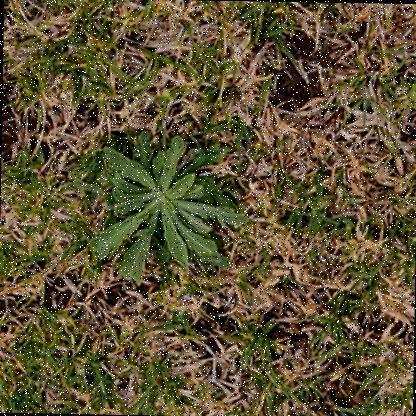Weeds: (86, 131, 248, 288)
